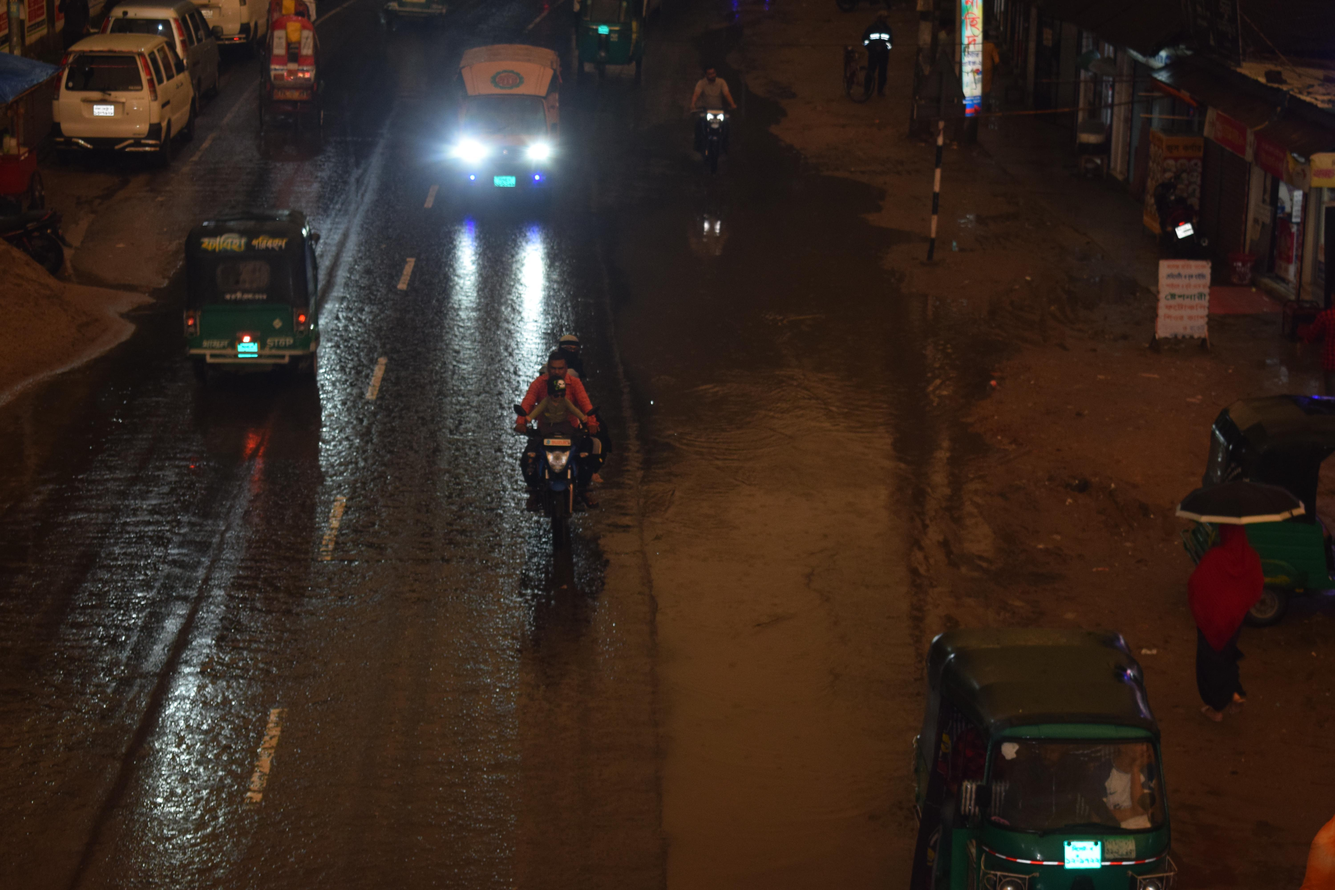Bike: (483, 292, 674, 592), (669, 53, 761, 186)
Car: (419, 24, 584, 243), (39, 24, 220, 178), (231, 0, 349, 147), (101, 0, 237, 97)
